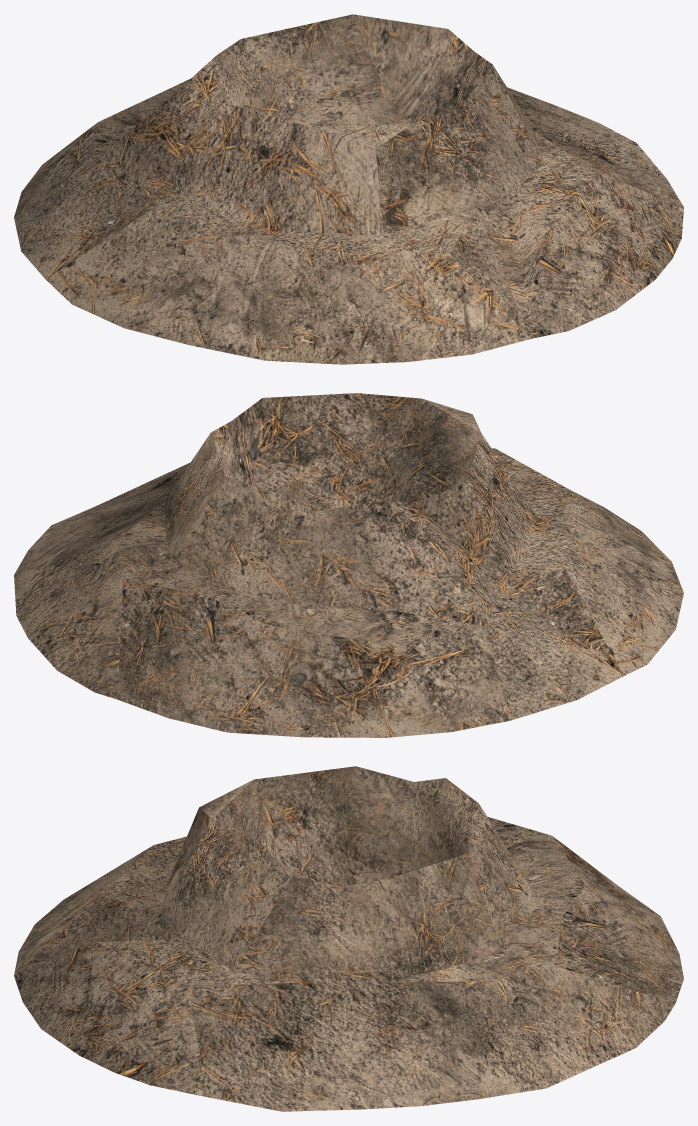
The model's file is hole.fbx.
The picture shows the model from 3 angles, top to bottom: view 1: azimuth 30°, elevation 25°; view 2: azimuth 150°, elevation 25°; view 3: azimuth 270°, elevation 25°; orthographic projection.
Visible parts, largest first — view 1: Circle; view 2: Circle; view 3: Circle.
Part boxes in pixels (x1,y1,x2,y2): Circle: [14, 14, 683, 364]; Circle: [14, 393, 683, 737]; Circle: [14, 766, 683, 1111].
Size of the model in its own units: 315 by 81.24 by 315.
